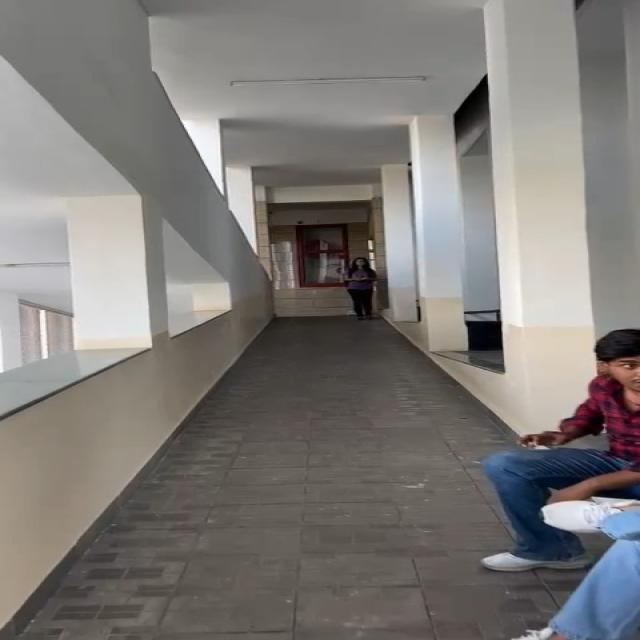floor: (182, 374, 428, 640)
moving_object: (454, 326, 640, 640), (326, 254, 398, 323)
wall: (0, 18, 304, 405)
